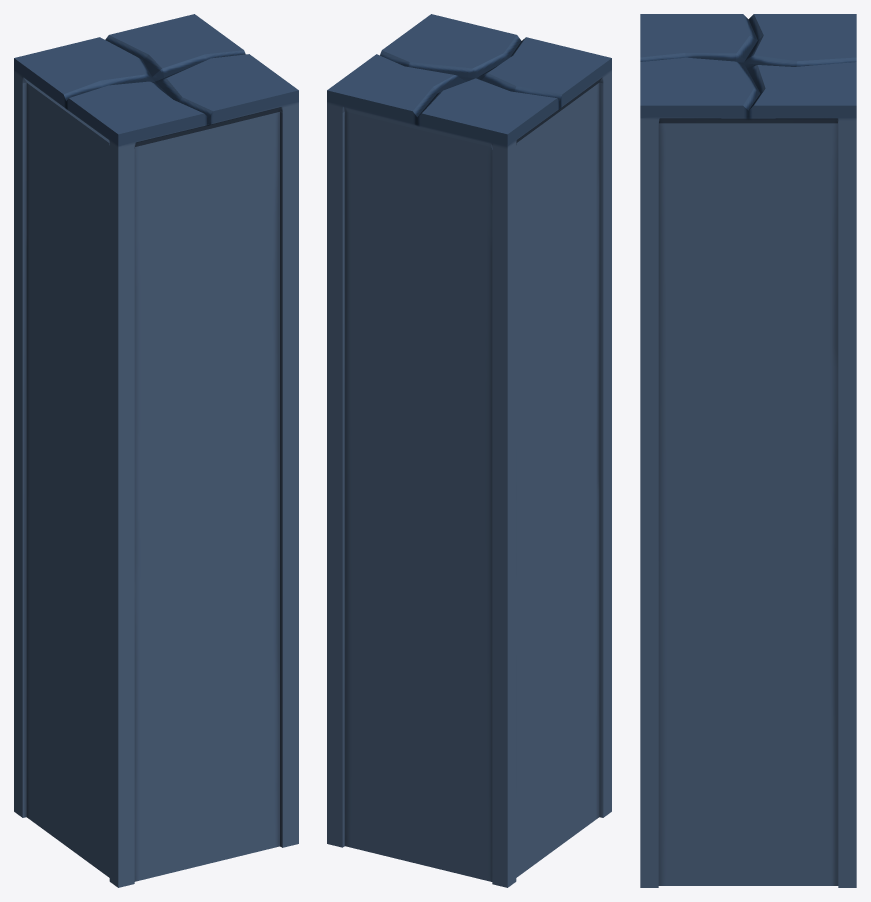
Rendered from WallV3_20220509.obj.
3 renders of one model, left to right at view 1: azimuth 30°, elevation 25°; view 2: azimuth 150°, elevation 25°; view 3: azimuth 270°, elevation 25°, orthographic. The views are drawn at different scales.
Visible parts, largest first — view 1: pCube1; view 2: pCube1; view 3: pCube1.
Part boxes in pixels (box(x1,y1,x2,y2)): pCube1: box(14, 14, 298, 887); pCube1: box(327, 14, 611, 887); pCube1: box(640, 14, 856, 887).
Bounding box in the file's own units: 5 × 19.93 × 5.
